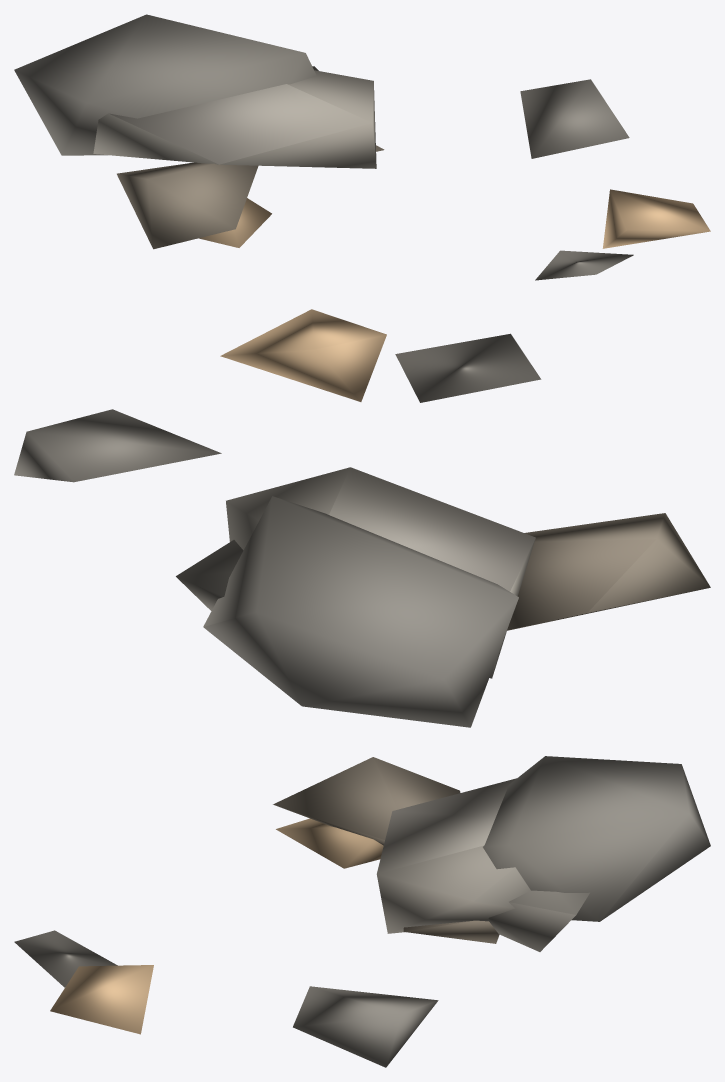
The model's file is shore_gc_pebbles_b_lod2.glb.
3 renders of one model, top to bottom at view 1: azimuth 30°, elevation 25°; view 2: azimuth 150°, elevation 25°; view 3: azimuth 270°, elevation 25°, orthographic. The views are drawn at different scales.
Parts seen in each view (by area): view 1: shore_gc_pebbles_b.001; view 2: shore_gc_pebbles_b.001; view 3: shore_gc_pebbles_b.001.
Part boxes in pixels (x1,y1,x2,y2): shore_gc_pebbles_b.001: [14, 14, 710, 280]; shore_gc_pebbles_b.001: [14, 309, 710, 727]; shore_gc_pebbles_b.001: [14, 756, 710, 1067].
Bounding box in the file's own units: 2.82 × 0.5408 × 3.28.
